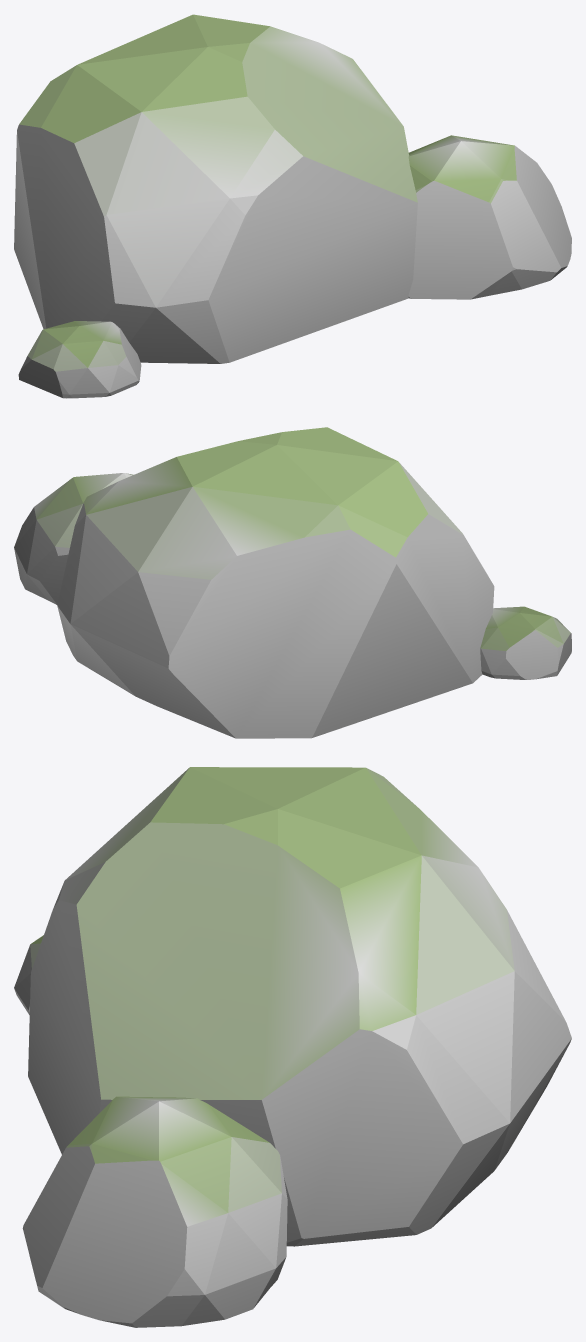
The model's file is rock_mossy.glb.
The picture shows the model from 3 angles, top to bottom: view 1: azimuth 30°, elevation 25°; view 2: azimuth 150°, elevation 25°; view 3: azimuth 270°, elevation 25°; orthographic projection. The views are drawn at different scales.
Visible parts, largest first — view 1: rock_mossy; view 2: rock_mossy; view 3: rock_mossy.
Part boxes in pixels (<box>): rock_mossy: <box>14,14,571,398</box>; rock_mossy: <box>14,427,571,738</box>; rock_mossy: <box>14,767,571,1327</box>.
Bounding box in the file's own units: 2.8 × 1.11 × 1.79.
